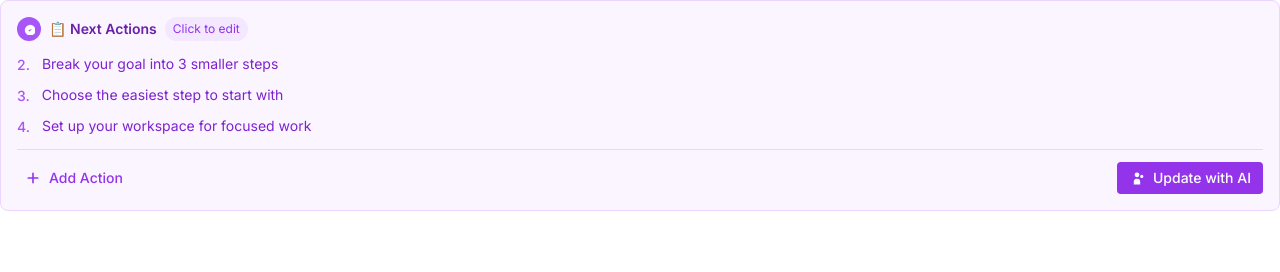
Scenario: EditableNextActions › cancels edit when Escape is pressed
This screenshot has width=1280, height=272.
Click the button "Break your goal into 3 smaller steps". click: [160, 64]
box: [42,55,278,72]
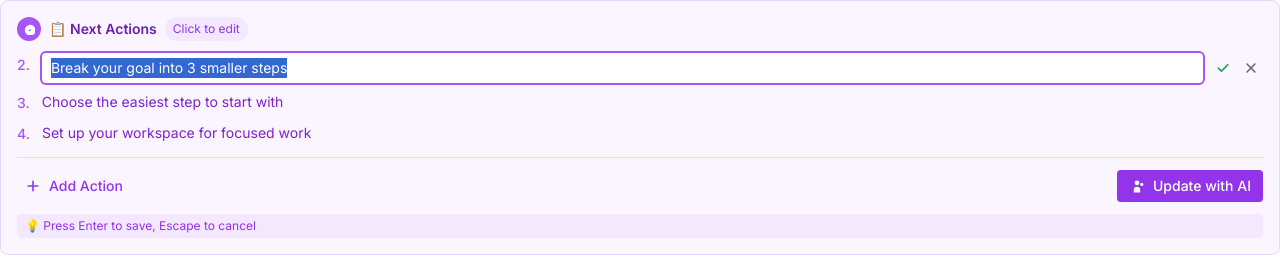
Replace the text in the field showing "Break your goal into 3 smaller steps" with "Modified action text". click: [622, 68]
box: [42,53,1203,83]
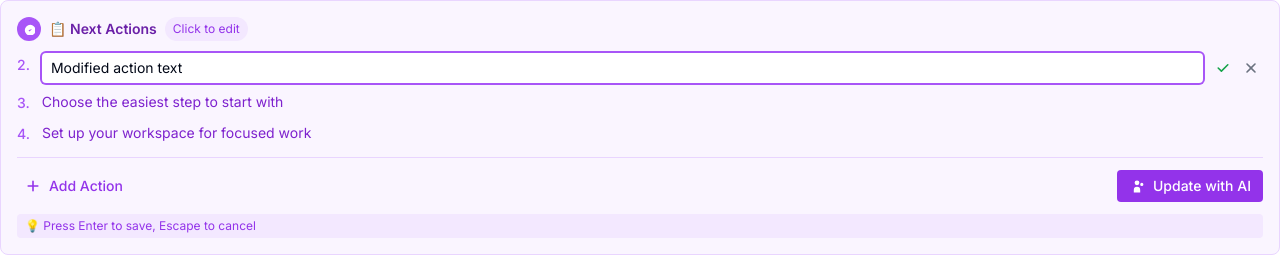
Press Escape in the field showing "Break your goal into 3 smaller steps", box [42,53,1203,83]
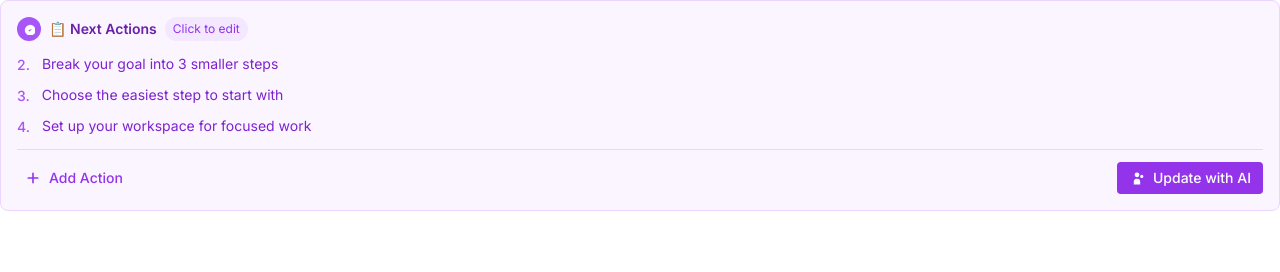
Now the text "Break your goal into 3 smaller steps" is shown, box [42,55,278,72]
Now the field showing "Modified action text" is gone
